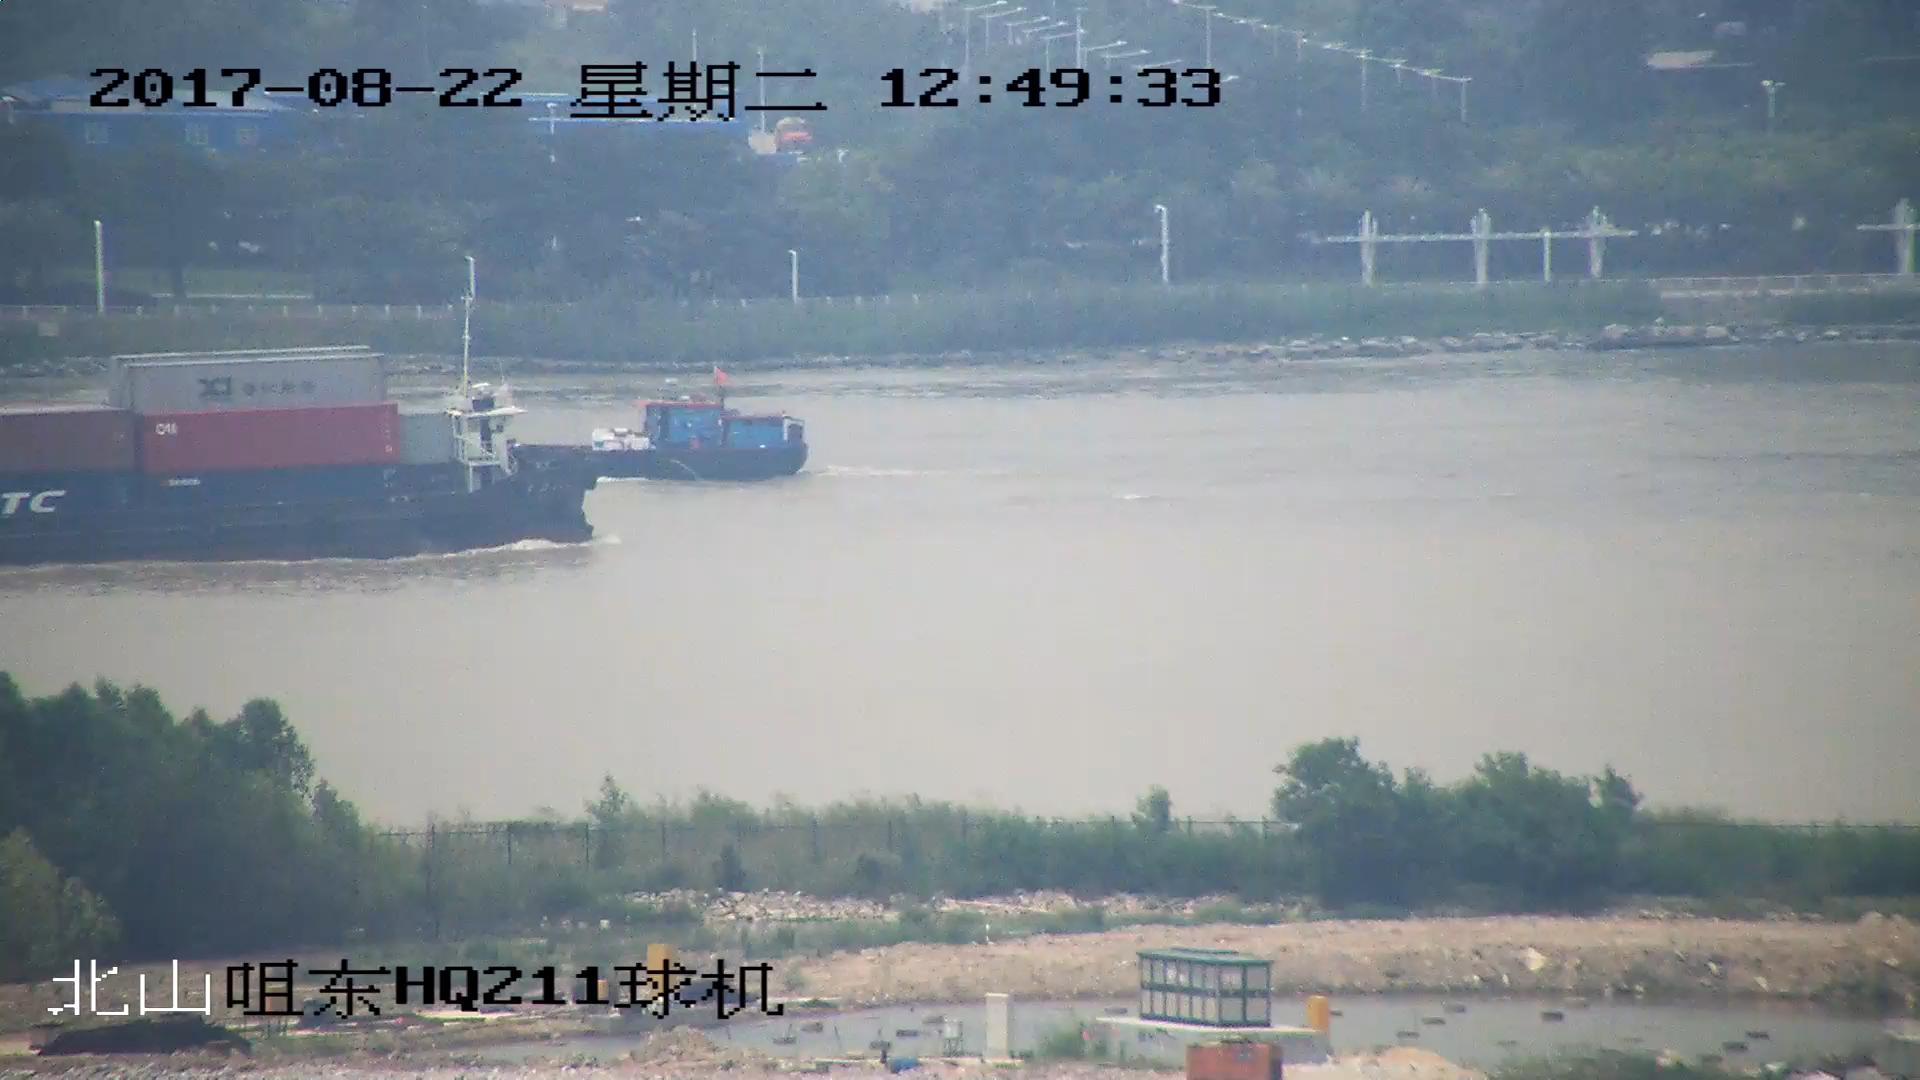container ship: (1, 334, 606, 559)
fishing boat: (536, 371, 814, 486)
